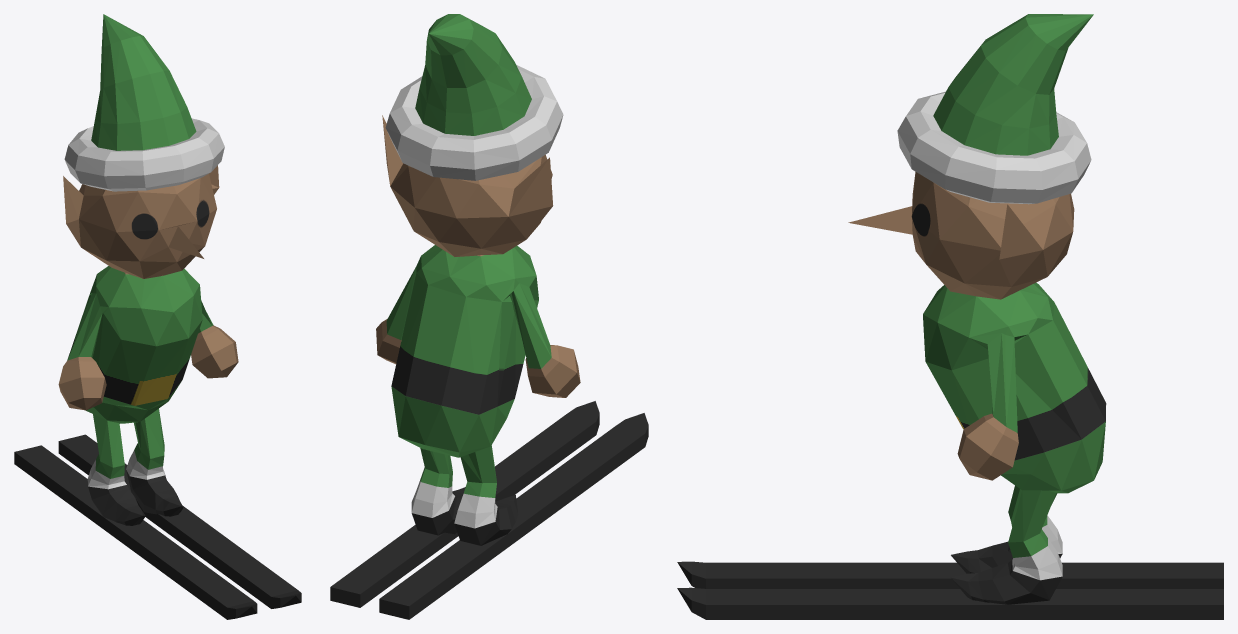
File: elf-ski.gltf
3 renders of one model, left to right at view 1: azimuth 30°, elevation 25°; view 2: azimuth 150°, elevation 25°; view 3: azimuth 270°, elevation 25°, orthographic. The views are drawn at different scales.
Visible parts, largest first — view 1: elf_skiing_baked; view 2: elf_skiing_baked; view 3: elf_skiing_baked.
Part boxes in pixels (bbox=[...]): elf_skiing_baked: bbox=[14, 14, 301, 619]; elf_skiing_baked: bbox=[330, 14, 648, 619]; elf_skiing_baked: bbox=[677, 14, 1223, 619].
Bounding box in the file's own units: 2.58 × 6.61 × 5.6.
1 material, 1 textured.
